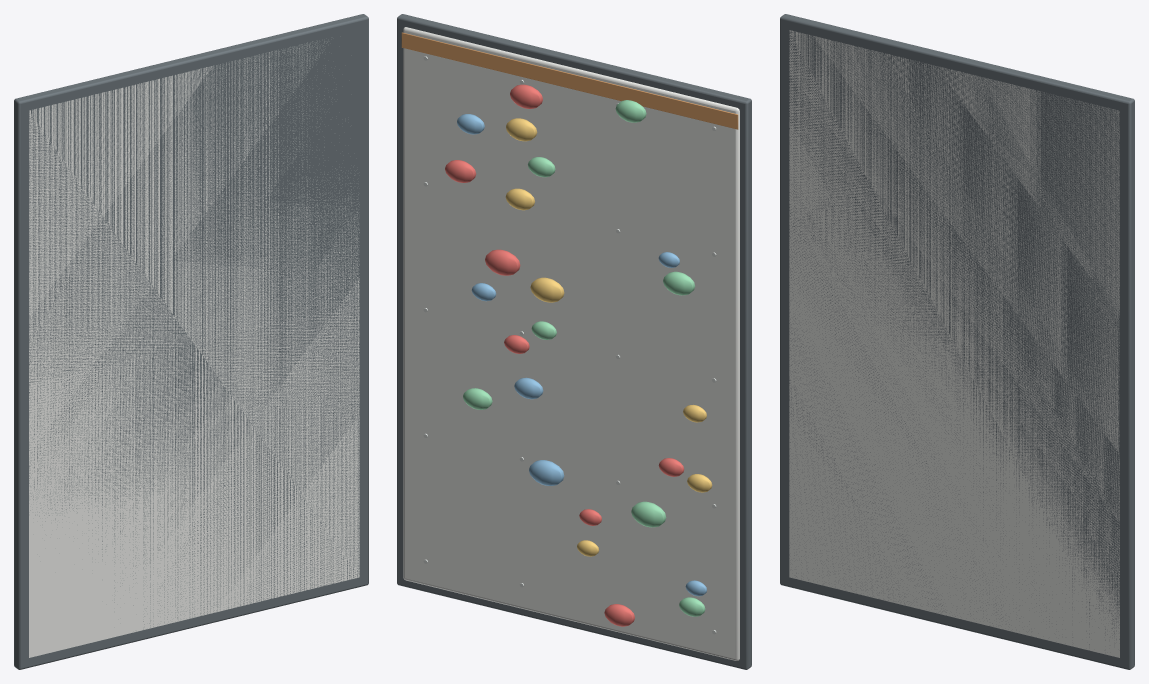
Rendered from climbing_wall.glb.
The picture shows the model from 3 angles, left to right: view 1: azimuth 30°, elevation 25°; view 2: azimuth 150°, elevation 25°; view 3: azimuth 330°, elevation 25°; orthographic projection.
Visible parts, largest first — view 1: board_white_painted, edge_graphite; view 2: board_white_painted, edge_graphite, top_band_orange, holds_bright_green, holds_button_red, holds_amber, holds_cool_blue; view 3: board_white_painted, edge_graphite.
Part boxes in pixels (bbox=[...]): board_white_painted: bbox=[29, 41, 359, 657]; edge_graphite: bbox=[14, 14, 368, 669]; board_white_painted: bbox=[403, 27, 739, 660]; edge_graphite: bbox=[397, 14, 751, 669]; top_band_orange: bbox=[401, 32, 738, 129]; holds_bright_green: bbox=[463, 100, 705, 616]; holds_button_red: bbox=[445, 84, 684, 626]; holds_amber: bbox=[505, 118, 712, 556]; holds_cool_blue: bbox=[457, 114, 706, 596]; board_white_painted: bbox=[789, 30, 1119, 657]; edge_graphite: bbox=[780, 14, 1134, 669].
Bounding box in the file's own units: 1.46 × 2.26 × 0.0957.
